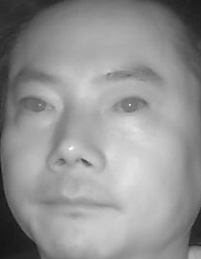eye: (14, 92, 59, 119), (108, 92, 150, 119)
mouth: (39, 183, 119, 225)
